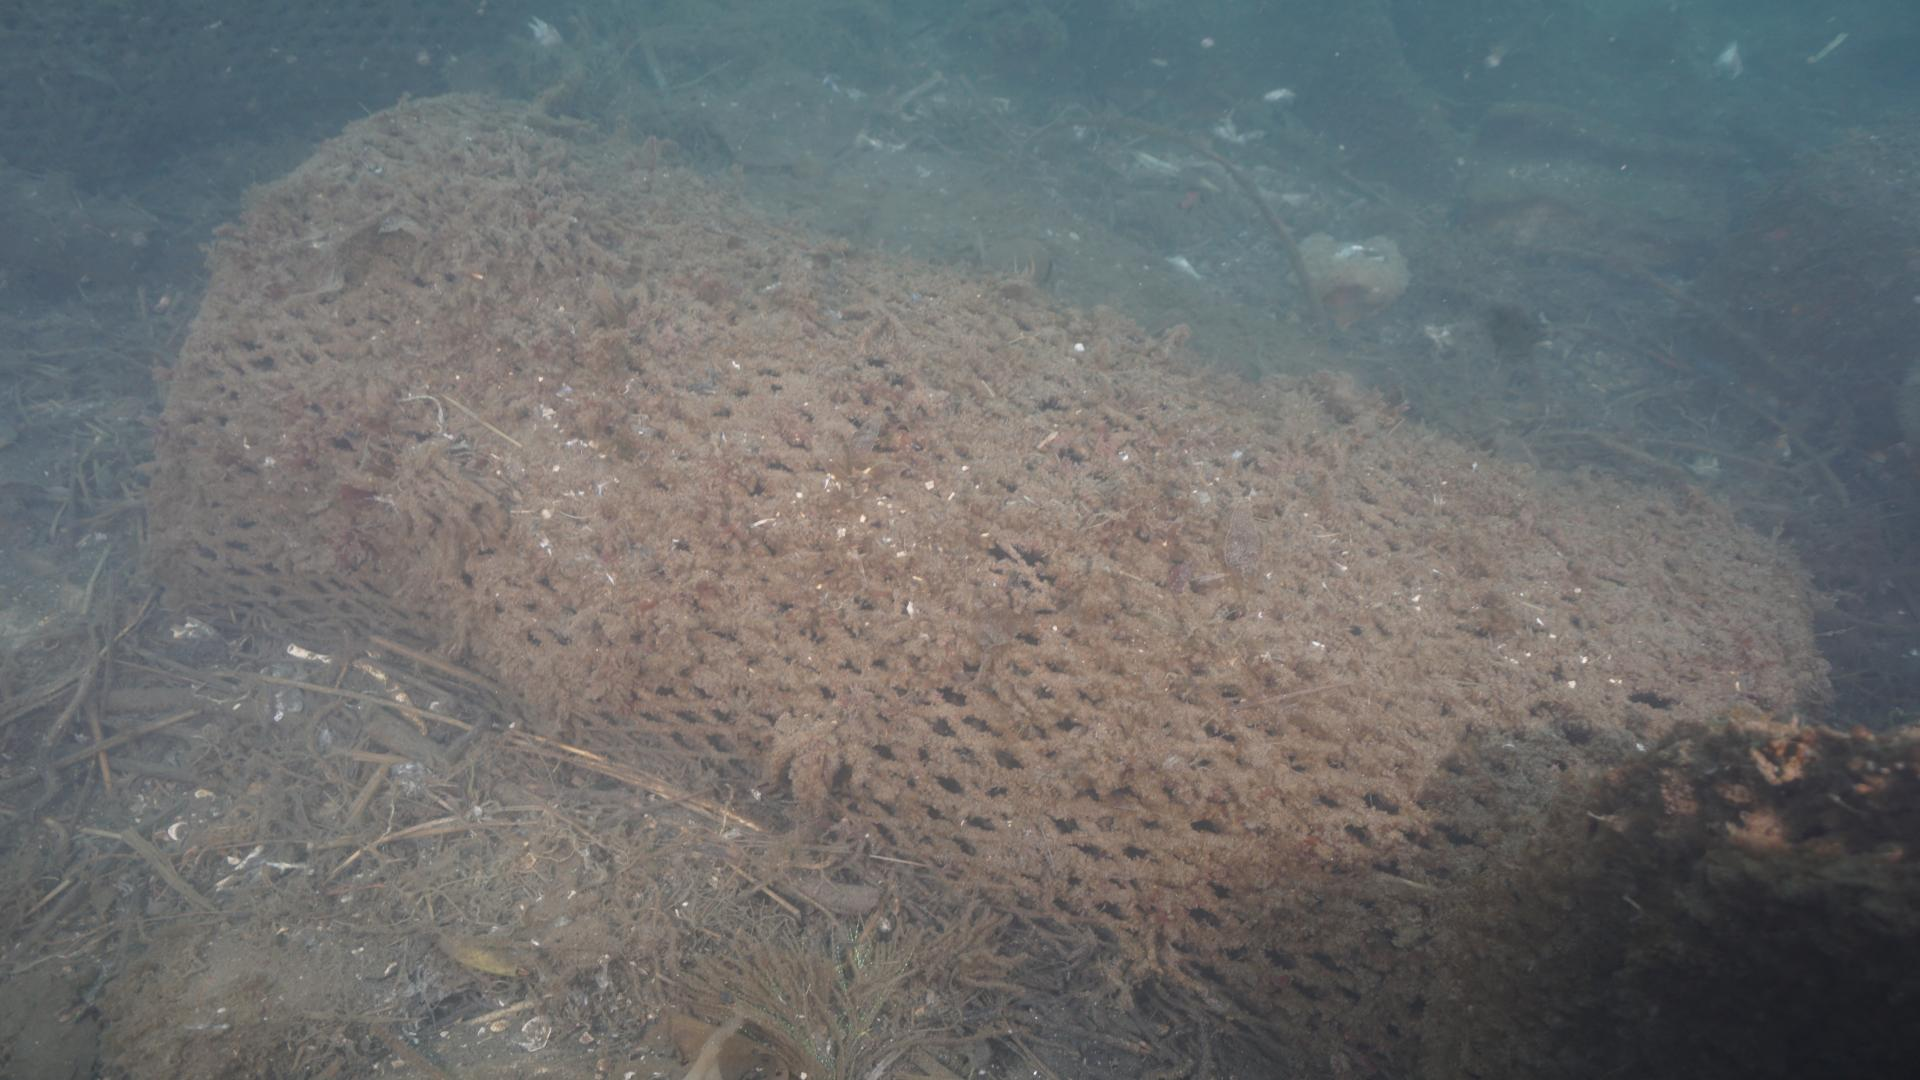spring fish trap: (119, 84, 1851, 1050)
